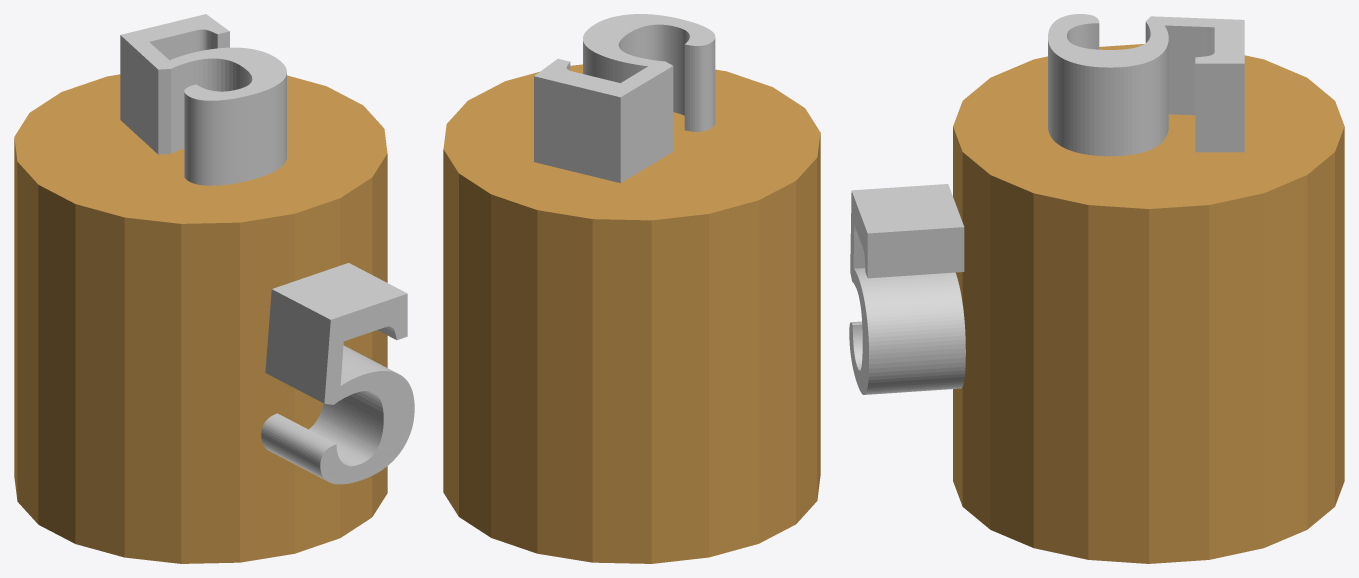
Rendered from number5.glb.
The picture shows the model from 3 angles, left to right: view 1: azimuth 30°, elevation 25°; view 2: azimuth 150°, elevation 25°; view 3: azimuth 270°, elevation 25°; orthographic projection. The views are drawn at different scales.
Parts seen in each view (by area): view 1: Mesh_Mesh_head_geo.001_lambert2SG.001; view 2: Mesh_Mesh_head_geo.001_lambert2SG.001; view 3: Mesh_Mesh_head_geo.001_lambert2SG.001.
Boxes of the visible parts, left/top/right/bottom form: Mesh_Mesh_head_geo.001_lambert2SG.001: left=14, top=14, right=414, bottom=563; Mesh_Mesh_head_geo.001_lambert2SG.001: left=443, top=14, right=820, bottom=563; Mesh_Mesh_head_geo.001_lambert2SG.001: left=849, top=14, right=1344, bottom=563.
Size of the model in its own units: 40 by 50 by 50.6.
